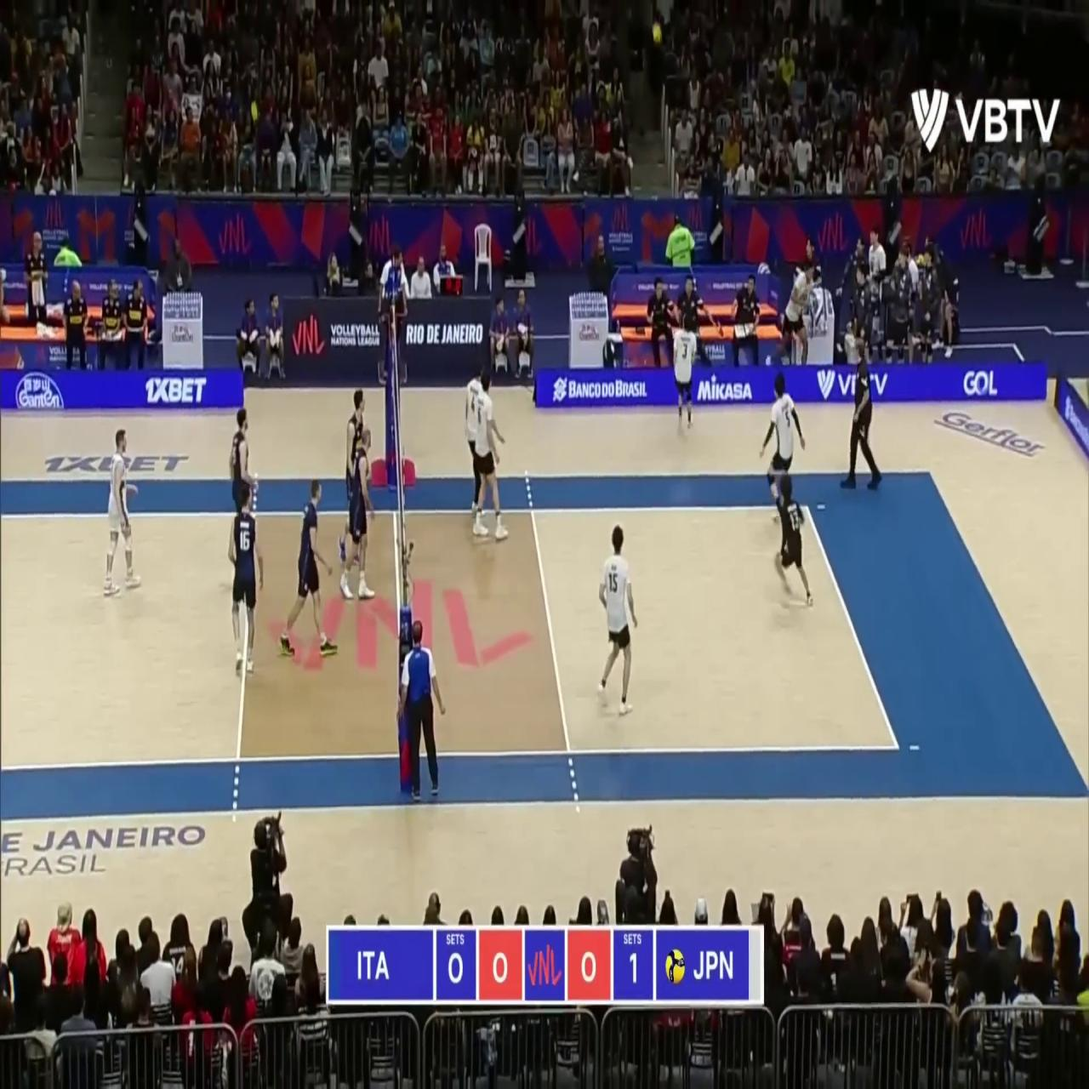ball: (652, 23, 662, 42)
